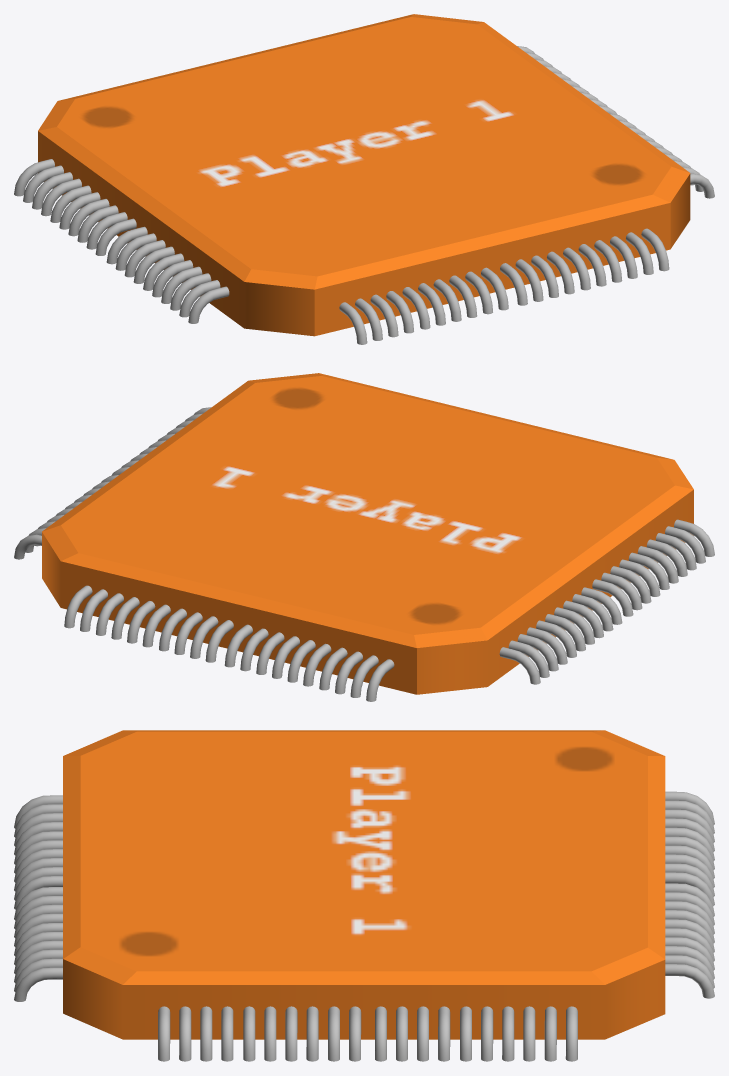
File: Player1CPU.fbx
3 renders of one model, top to bottom at view 1: azimuth 30°, elevation 25°; view 2: azimuth 150°, elevation 25°; view 3: azimuth 270°, elevation 25°, orthographic. The views are drawn at different scales.
Visible parts, largest first — view 1: pCube1, polySurface1, polySurface3, polySurface2; view 2: pCube1, polySurface1, polySurface4, polySurface2; view 3: pCube1, polySurface2, polySurface4, polySurface3.
Part boxes in pixels (x1,y1,x2,y2): pCube1: [38, 14, 690, 336]; polySurface1: [14, 159, 229, 323]; polySurface3: [339, 228, 669, 344]; polySurface2: [517, 46, 714, 198]; pCube1: [42, 373, 693, 694]; polySurface1: [499, 519, 714, 684]; polySurface4: [64, 585, 394, 701]; polySurface2: [14, 407, 211, 559]; pCube1: [63, 730, 665, 1039]; polySurface2: [158, 1006, 577, 1061]; polySurface4: [665, 791, 714, 998]; polySurface3: [14, 795, 62, 1001].
Bounding box in the file's own units: 11.78 × 1.11 × 11.64.
Materials: 5 (1 with a texture image).
